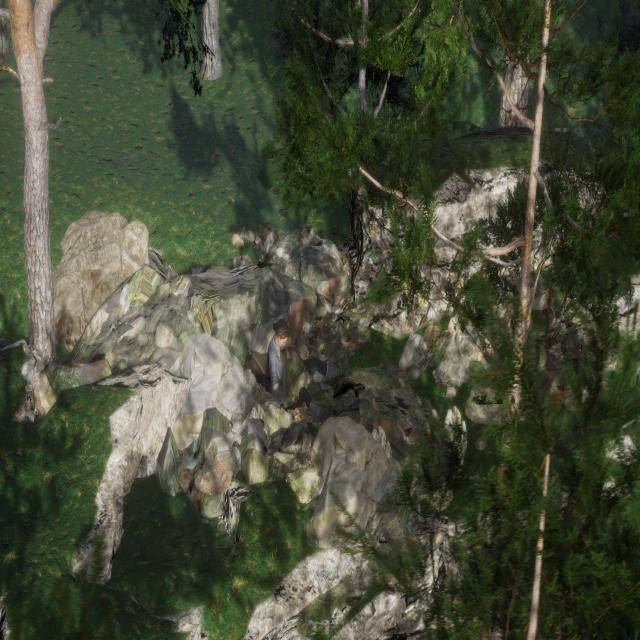Human: (257, 311, 350, 421)
